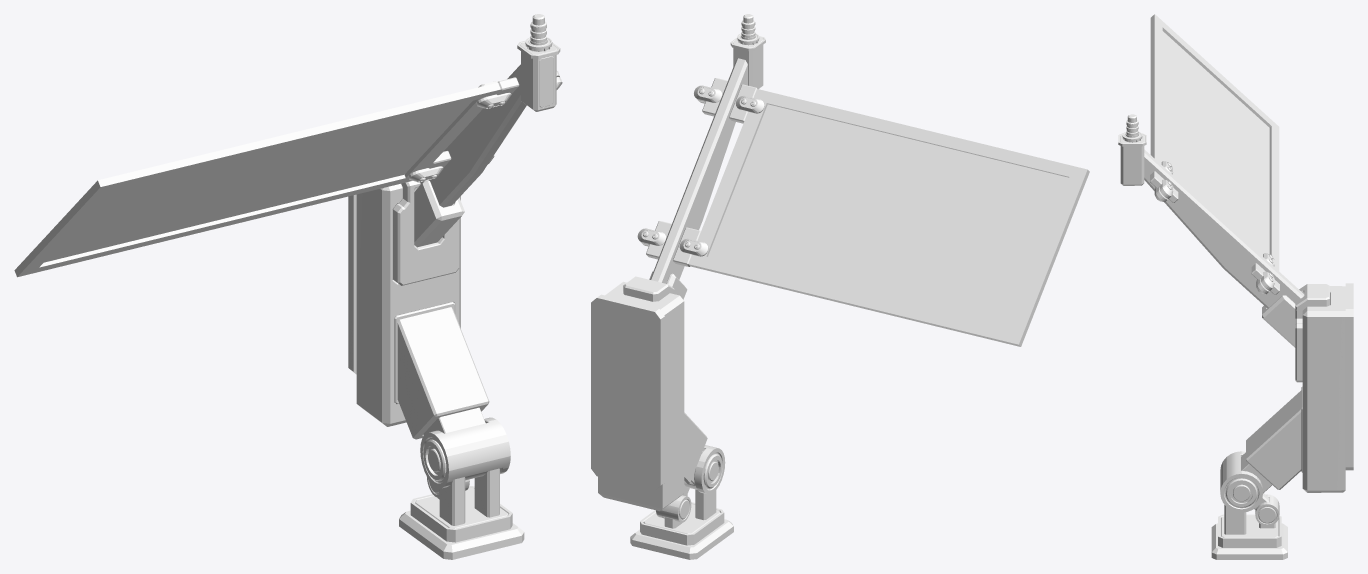
Rendered from KB3D_FTW_PropFencePost_B_grp.glb.
The picture shows the model from 3 angles, left to right: view 1: azimuth 30°, elevation 25°; view 2: azimuth 150°, elevation 25°; view 3: azimuth 270°, elevation 25°; orthographic projection. The views are drawn at different scales.
Visible parts, largest first — view 1: KB3D_FTW_PropFencePost_B_Main; view 2: KB3D_FTW_PropFencePost_B_Main; view 3: KB3D_FTW_PropFencePost_B_Main.
Part boxes in pixels (x1=…): KB3D_FTW_PropFencePost_B_Main: x1=14, y1=14, x2=562, y2=559; KB3D_FTW_PropFencePost_B_Main: x1=591, y1=14, x2=1089, y2=559; KB3D_FTW_PropFencePost_B_Main: x1=1118, y1=14, x2=1353, y2=559.
Size of the model in its own units: 3.11 by 3.65 by 1.82.
10 materials, 1 textured.
